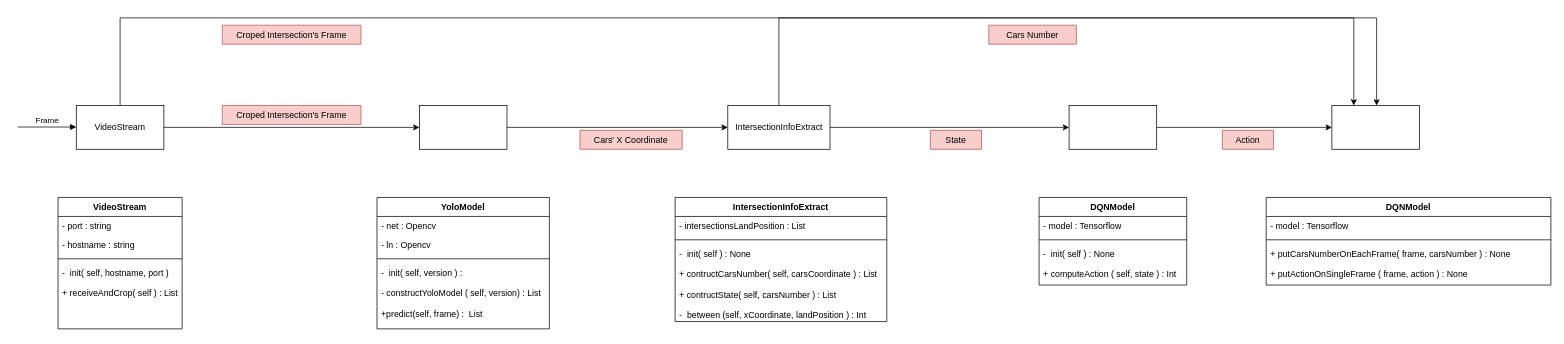
This 1564x344 diagram has some shape labels left out. Each missing label, with the centre of its shape:
"DQN" belongs at (1112,127).
"Visualization" belongs at (1375,127).
"Yolo" belongs at (463,127).
